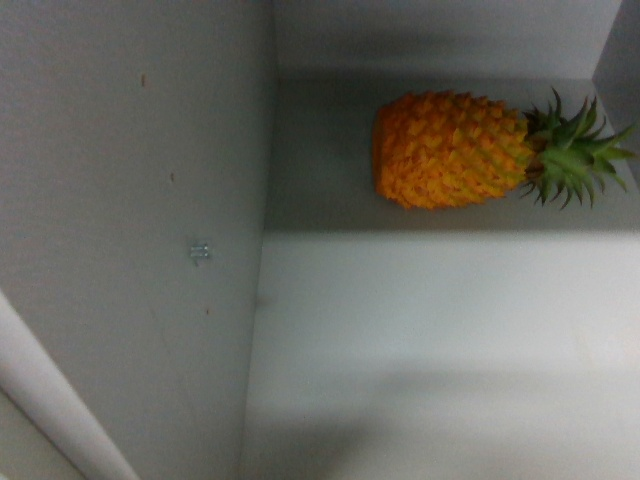pineapple: (365, 85, 636, 211)
